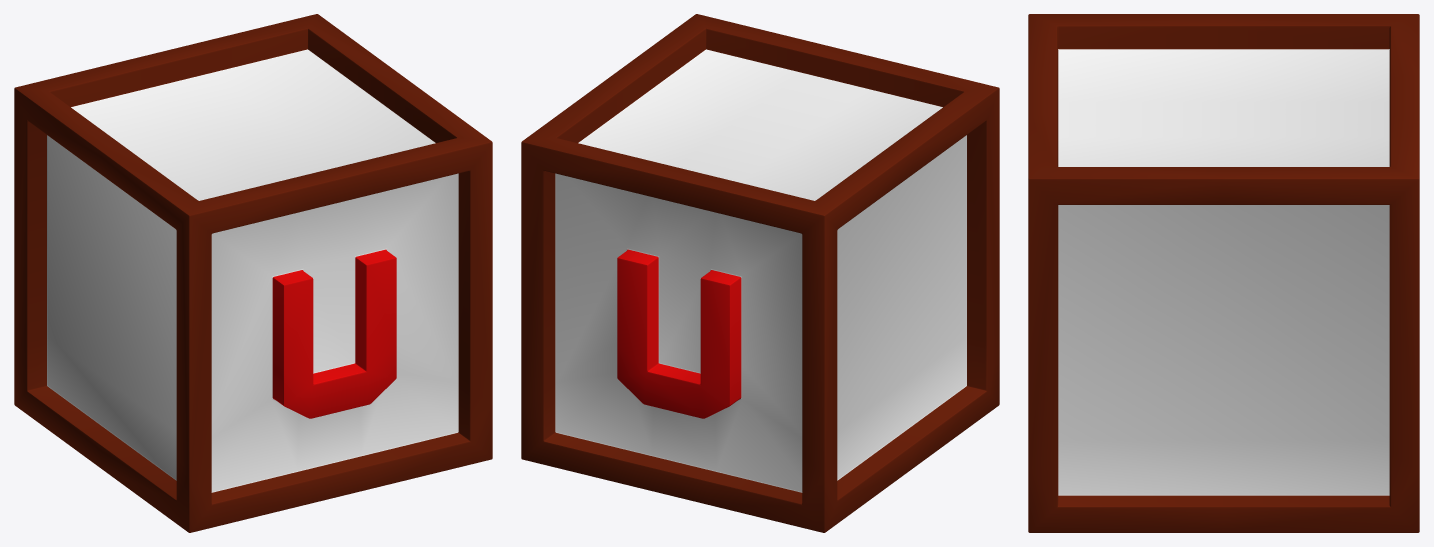
Rendered from MetalCube 1.fbx.
3 views of the same model, side by side, from view 1: azimuth 30°, elevation 25°; view 2: azimuth 150°, elevation 25°; view 3: azimuth 270°, elevation 25° (orthographic). The views are drawn at different scales.
Parts seen in each view (by area): view 1: MetalCube; view 2: MetalCube; view 3: MetalCube.
Part boxes in pixels (x1,y1,x2,y2): MetalCube: (14, 14, 492, 532); MetalCube: (521, 14, 999, 532); MetalCube: (1028, 14, 1419, 532).
Bounding box in the file's own units: 100 × 100 × 100.
